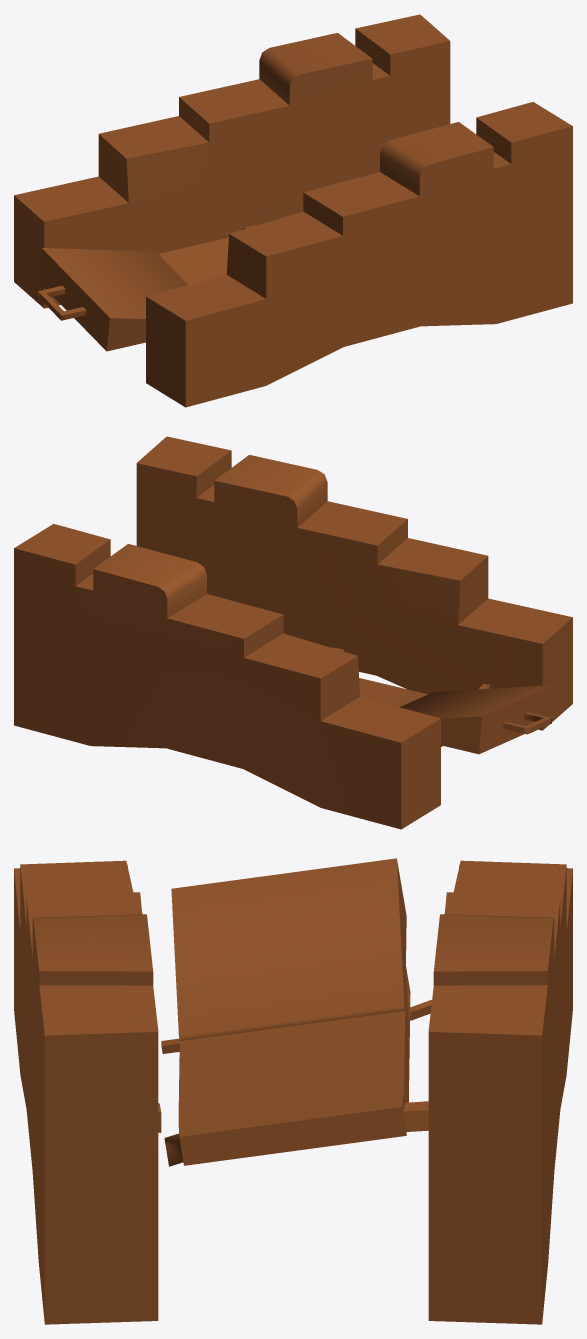
Rendered from BrokenSupport.fbx.
The picture shows the model from 3 angles, top to bottom: view 1: azimuth 30°, elevation 25°; view 2: azimuth 150°, elevation 25°; view 3: azimuth 270°, elevation 25°; orthographic projection. The views are drawn at different scales.
Parts seen in each view (by area): view 1: Cube.004; view 2: Cube.004; view 3: Cube.004.
Boxes of the visible parts, bbox=[...] form: Cube.004: bbox=[14, 14, 572, 407]; Cube.004: bbox=[14, 436, 572, 829]; Cube.004: bbox=[14, 858, 572, 1324].
Size of the model in its own units: 927 by 614 by 351.
